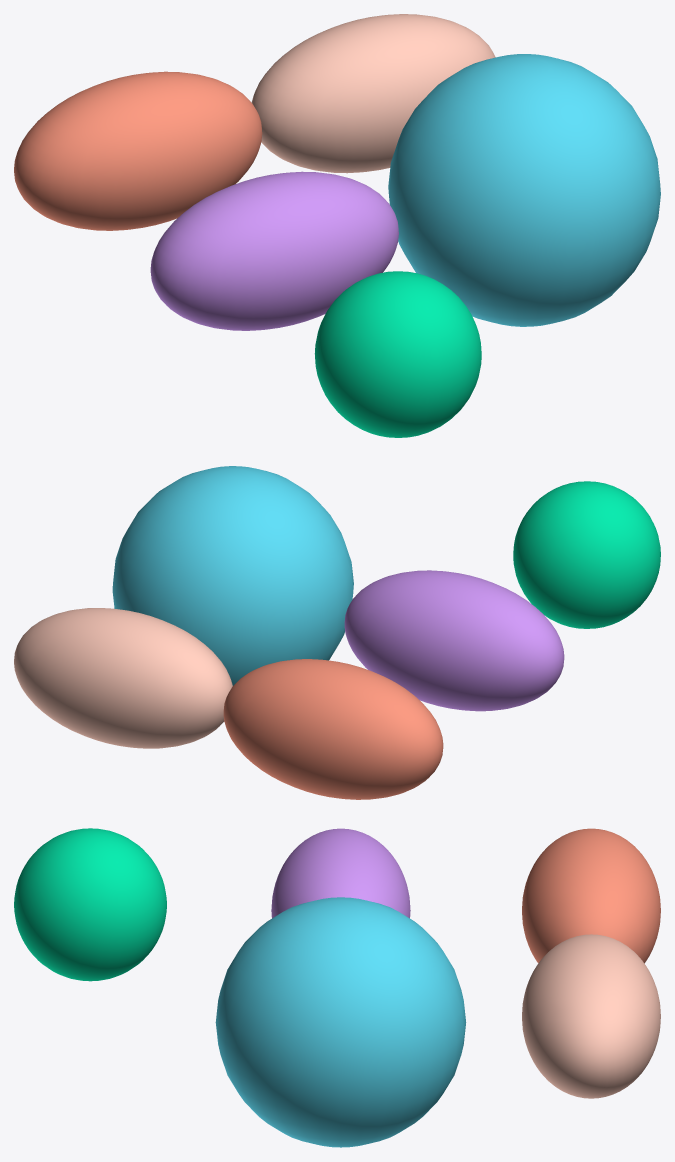
The model's file is figma-transformed.glb.
3 renders of one model, top to bottom at view 1: azimuth 30°, elevation 25°; view 2: azimuth 150°, elevation 25°; view 3: azimuth 270°, elevation 25°, orthographic. The views are drawn at different scales.
Visible parts, largest first — view 1: Blue_Circle, Orange_Top, Purple_Mid, Peach_Top, Green_Bottom; view 2: Blue_Circle, Orange_Top, Peach_Top, Purple_Mid, Green_Bottom; view 3: Blue_Circle, Green_Bottom, Peach_Top, Orange_Top, Purple_Mid.
Part boxes in pixels (x1=…): Blue_Circle: x1=388, y1=54, x2=660, y2=326; Orange_Top: x1=14, y1=71, x2=262, y2=230; Purple_Mid: x1=150, y1=171, x2=398, y2=330; Peach_Top: x1=251, y1=14, x2=495, y2=173; Green_Bottom: x1=314, y1=271, x2=481, y2=437; Blue_Circle: x1=112, y1=466, x2=353, y2=685; Orange_Top: x1=223, y1=659, x2=443, y2=799; Peach_Top: x1=14, y1=608, x2=232, y2=748; Purple_Mid: x1=344, y1=570, x2=564, y2=711; Green_Bottom: x1=513, y1=481, x2=660, y2=628; Blue_Circle: x1=215, y1=897, x2=466, y2=1147; Green_Bottom: x1=14, y1=828, x2=166, y2=981; Peach_Top: x1=522, y1=934, x2=660, y2=1098; Orange_Top: x1=522, y1=828, x2=660, y2=963; Purple_Mid: x1=271, y1=828, x2=410, y2=918.
Size of the model in its own units: 3.7 by 1.8 by 4.65.
